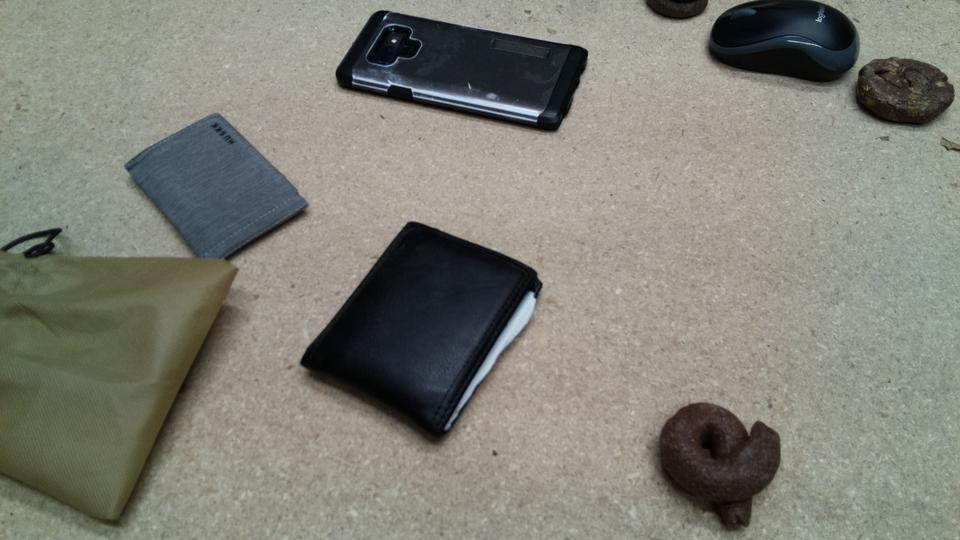poop: (657, 398, 785, 533), (853, 55, 957, 128), (642, 1, 709, 21)
